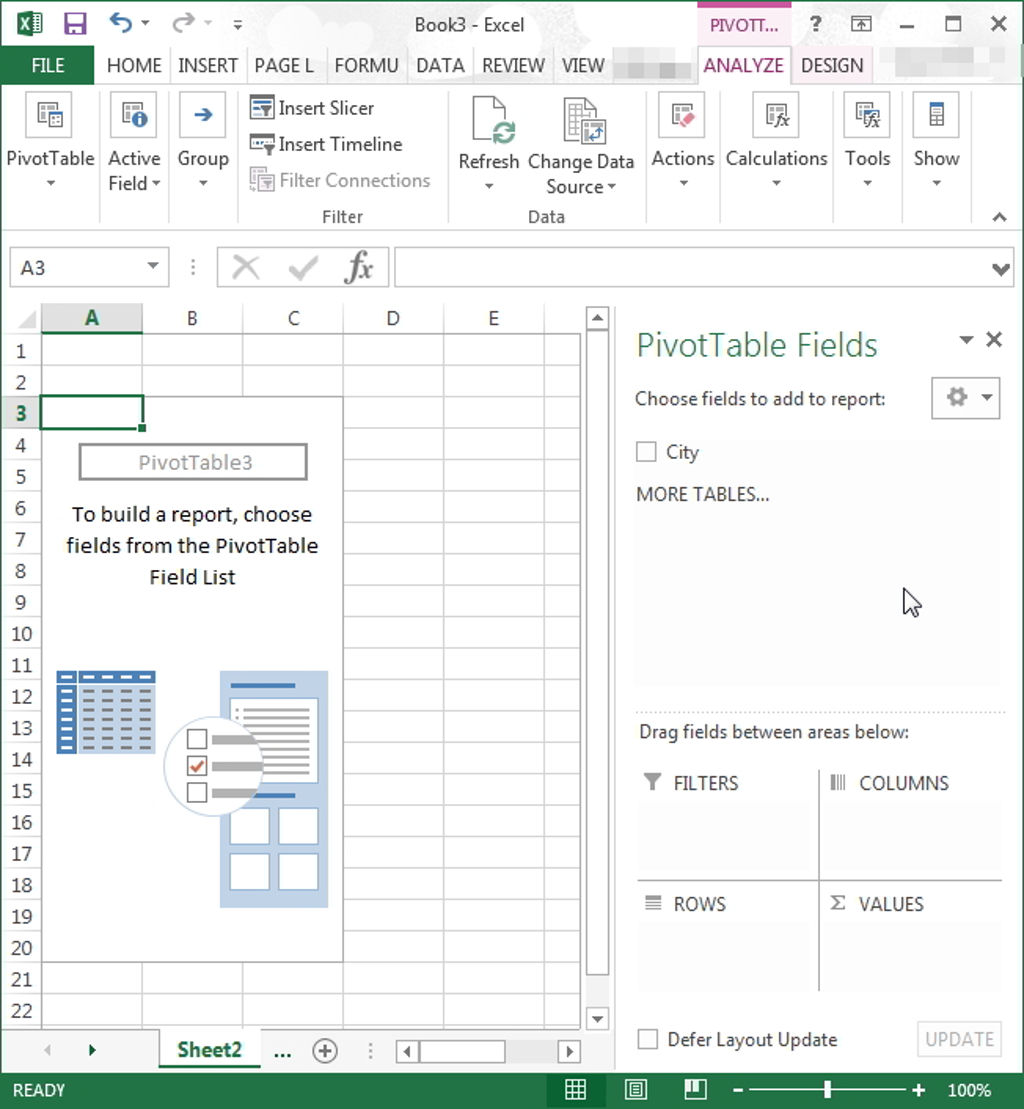button: (584, 331, 612, 975), (526, 92, 642, 201), (724, 90, 831, 201), (2, 90, 101, 197), (648, 90, 720, 203), (451, 91, 524, 201), (238, 163, 443, 200), (102, 87, 170, 195), (171, 90, 235, 197), (908, 87, 966, 197), (839, 90, 898, 197), (239, 128, 413, 161), (240, 90, 386, 124), (632, 479, 778, 507), (160, 1030, 260, 1067), (1, 46, 94, 85), (914, 1020, 1004, 1060), (699, 47, 792, 84), (248, 47, 329, 84), (792, 47, 873, 84), (329, 48, 408, 85), (171, 47, 247, 84), (476, 49, 553, 85), (96, 47, 171, 83), (407, 48, 475, 85), (421, 1039, 508, 1065), (606, 1074, 668, 1109), (553, 49, 614, 83), (930, 375, 975, 421), (334, 248, 386, 286), (549, 1074, 605, 1109), (668, 1074, 724, 1109), (278, 248, 325, 287), (225, 249, 266, 287), (988, 243, 1019, 292), (166, 4, 201, 43), (101, 5, 138, 40), (140, 246, 170, 288), (11, 6, 48, 40), (56, 6, 94, 39), (975, 376, 1001, 422), (265, 1034, 301, 1065), (76, 1034, 108, 1066), (31, 1034, 64, 1065), (311, 1034, 341, 1066), (953, 321, 980, 356), (938, 9, 967, 40), (985, 203, 1016, 232), (985, 9, 1013, 40), (980, 322, 1007, 354), (802, 9, 830, 39), (847, 10, 878, 37), (725, 1075, 749, 1109), (891, 11, 922, 37), (394, 1038, 422, 1066), (556, 1038, 583, 1067), (584, 305, 613, 332), (635, 1025, 662, 1052), (633, 439, 659, 465), (907, 1077, 931, 1105), (585, 1006, 611, 1031), (816, 1076, 838, 1103), (228, 14, 248, 36), (137, 12, 155, 32), (201, 12, 217, 32)
common: (62, 500, 324, 594), (631, 384, 889, 415), (634, 720, 912, 745), (665, 1029, 841, 1052), (4, 1078, 71, 1104), (943, 1078, 1002, 1105), (665, 440, 704, 467)
container: (1, 1, 1024, 1109), (614, 298, 1022, 1075), (44, 397, 341, 960), (620, 306, 1011, 703), (616, 715, 1014, 1066), (1, 231, 1023, 296), (1, 41, 1022, 87), (1, 2, 1022, 42), (3, 1074, 1024, 1109), (392, 242, 1020, 295), (239, 90, 447, 229), (450, 93, 644, 231), (619, 884, 816, 1007), (620, 755, 815, 876), (2, 1032, 579, 1070), (822, 884, 998, 1006), (822, 756, 997, 877), (585, 304, 613, 1033), (724, 91, 832, 229), (2, 87, 101, 222), (651, 90, 721, 230), (835, 93, 902, 230), (216, 242, 392, 292), (104, 88, 170, 221), (171, 88, 235, 223), (7, 241, 174, 292), (907, 90, 967, 228), (629, 1024, 847, 1058), (393, 1038, 580, 1067), (751, 1077, 908, 1109), (930, 376, 1003, 422), (629, 438, 706, 470)
header: (630, 324, 883, 364), (77, 440, 312, 483), (698, 3, 793, 47), (410, 10, 530, 40), (857, 770, 952, 794), (853, 890, 926, 919), (671, 769, 743, 797), (671, 888, 729, 916), (521, 204, 576, 229), (316, 204, 370, 229)
image: (49, 663, 338, 918), (639, 769, 668, 797), (638, 890, 668, 915), (824, 887, 851, 914), (826, 769, 853, 795)
table: (1, 303, 586, 1030)
table-cell: (242, 993, 344, 1028), (443, 647, 547, 681), (344, 994, 444, 1028), (444, 333, 546, 366), (342, 679, 444, 712), (142, 333, 243, 366), (242, 333, 343, 366), (142, 994, 243, 1027), (340, 805, 444, 837), (344, 333, 444, 366), (242, 365, 342, 398), (444, 396, 544, 429), (343, 522, 443, 555), (444, 994, 544, 1027), (343, 398, 446, 430), (443, 584, 546, 616), (443, 616, 546, 648), (342, 429, 444, 461), (342, 584, 444, 616), (342, 616, 444, 648), (444, 805, 546, 837), (443, 522, 544, 554), (443, 554, 544, 586), (343, 931, 444, 963), (444, 428, 544, 460), (444, 931, 544, 963), (340, 743, 443, 774), (41, 334, 143, 365), (344, 366, 446, 397), (342, 460, 444, 491), (342, 648, 444, 679), (342, 712, 444, 743), (340, 869, 442, 900), (444, 964, 546, 995), (43, 993, 141, 1025), (443, 743, 544, 774), (143, 366, 243, 397), (444, 460, 544, 491), (344, 491, 444, 522), (446, 711, 546, 742), (444, 900, 544, 931), (344, 963, 444, 994), (443, 492, 546, 522), (341, 775, 444, 805), (244, 964, 343, 995), (341, 838, 443, 868), (42, 366, 143, 396), (443, 868, 544, 898), (342, 901, 443, 931), (343, 303, 443, 333), (43, 963, 143, 993), (443, 681, 546, 710), (443, 839, 546, 868), (143, 304, 242, 334), (444, 367, 543, 397), (143, 964, 242, 994), (444, 304, 546, 333), (444, 776, 546, 805), (242, 303, 343, 332), (43, 305, 143, 333), (344, 556, 443, 584), (1, 583, 44, 618), (1, 459, 44, 492), (1, 492, 44, 525), (1, 742, 44, 775), (1, 679, 43, 712), (1, 804, 43, 837), (1, 993, 43, 1026), (1, 898, 42, 931), (1, 523, 44, 554), (1, 648, 44, 679), (1, 931, 42, 963), (544, 521, 582, 555), (1, 554, 44, 584), (1, 775, 44, 805), (1, 868, 44, 898), (2, 334, 42, 366), (546, 332, 582, 367), (1, 712, 43, 742), (1, 838, 43, 868), (546, 648, 583, 682), (544, 397, 582, 430), (2, 428, 41, 460), (1, 397, 41, 428), (1, 618, 43, 647), (544, 555, 582, 587), (543, 429, 582, 460), (1, 367, 42, 396), (546, 616, 583, 648), (544, 461, 582, 492), (3, 304, 42, 334), (544, 996, 580, 1028), (1, 965, 42, 993), (546, 585, 583, 616), (546, 743, 583, 774), (544, 368, 583, 397), (546, 900, 582, 931), (546, 965, 582, 996), (546, 492, 582, 522), (546, 711, 582, 741), (546, 775, 582, 805), (546, 304, 584, 332), (546, 868, 579, 900), (546, 807, 580, 838), (546, 682, 582, 711), (547, 931, 583, 960), (546, 838, 580, 868)
table-row: (1, 396, 587, 431), (1, 459, 589, 493), (1, 742, 586, 776), (3, 333, 586, 367), (1, 995, 584, 1029), (1, 648, 587, 681), (1, 616, 586, 649), (1, 931, 585, 964), (2, 805, 585, 838), (2, 523, 584, 556), (2, 429, 587, 461), (2, 366, 586, 398), (1, 775, 585, 807), (1, 837, 585, 869), (1, 869, 585, 901), (1, 964, 584, 996), (1, 555, 586, 586), (1, 900, 585, 931), (2, 585, 584, 616), (1, 493, 586, 523), (1, 681, 585, 711), (2, 712, 586, 742), (3, 304, 586, 333)
text-input: (393, 243, 987, 291), (8, 245, 140, 287)
